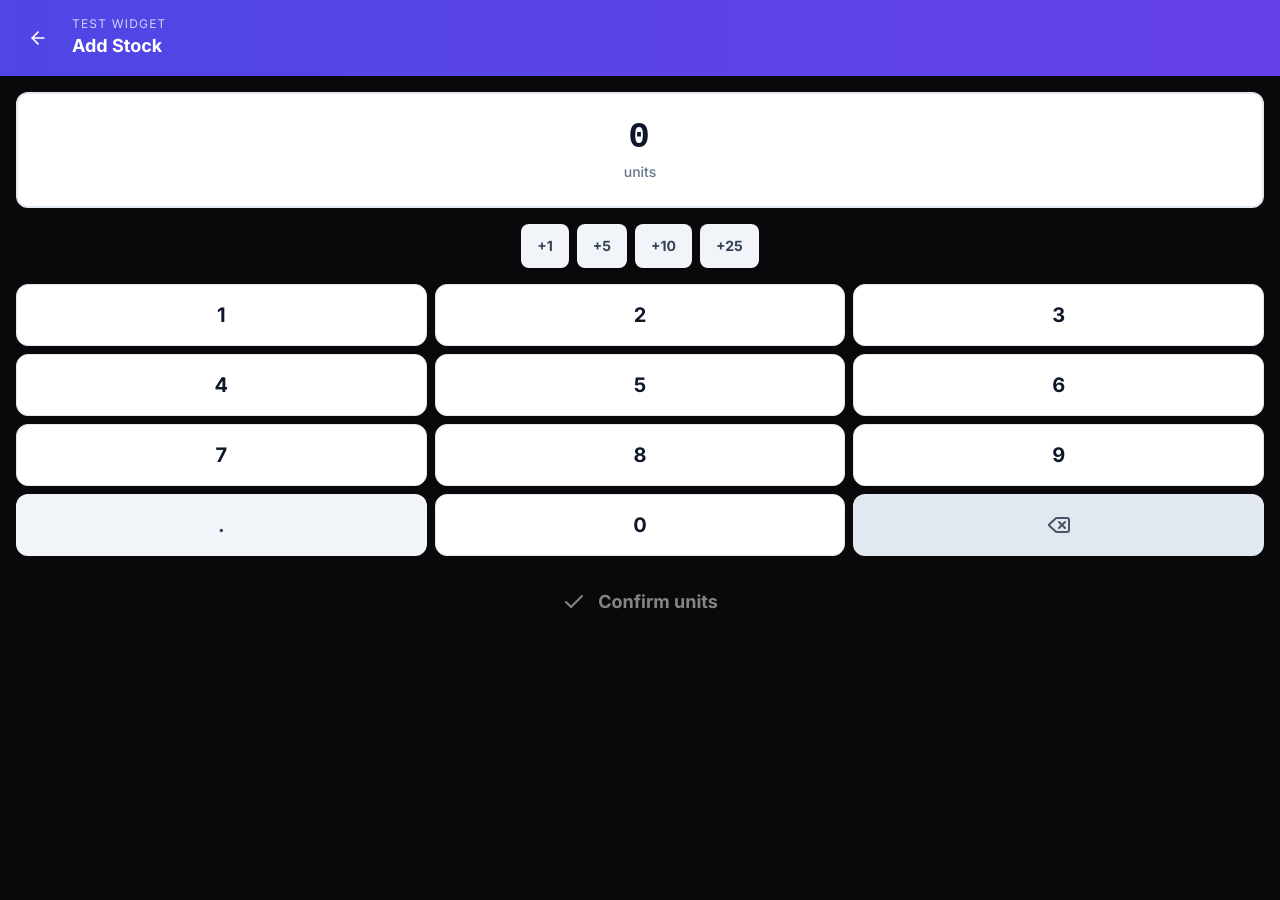
it: QuantityInput › updates display when number keys pressed
Click the button with test id "key-5". click: (640, 385)
box: [435,354,845,416]
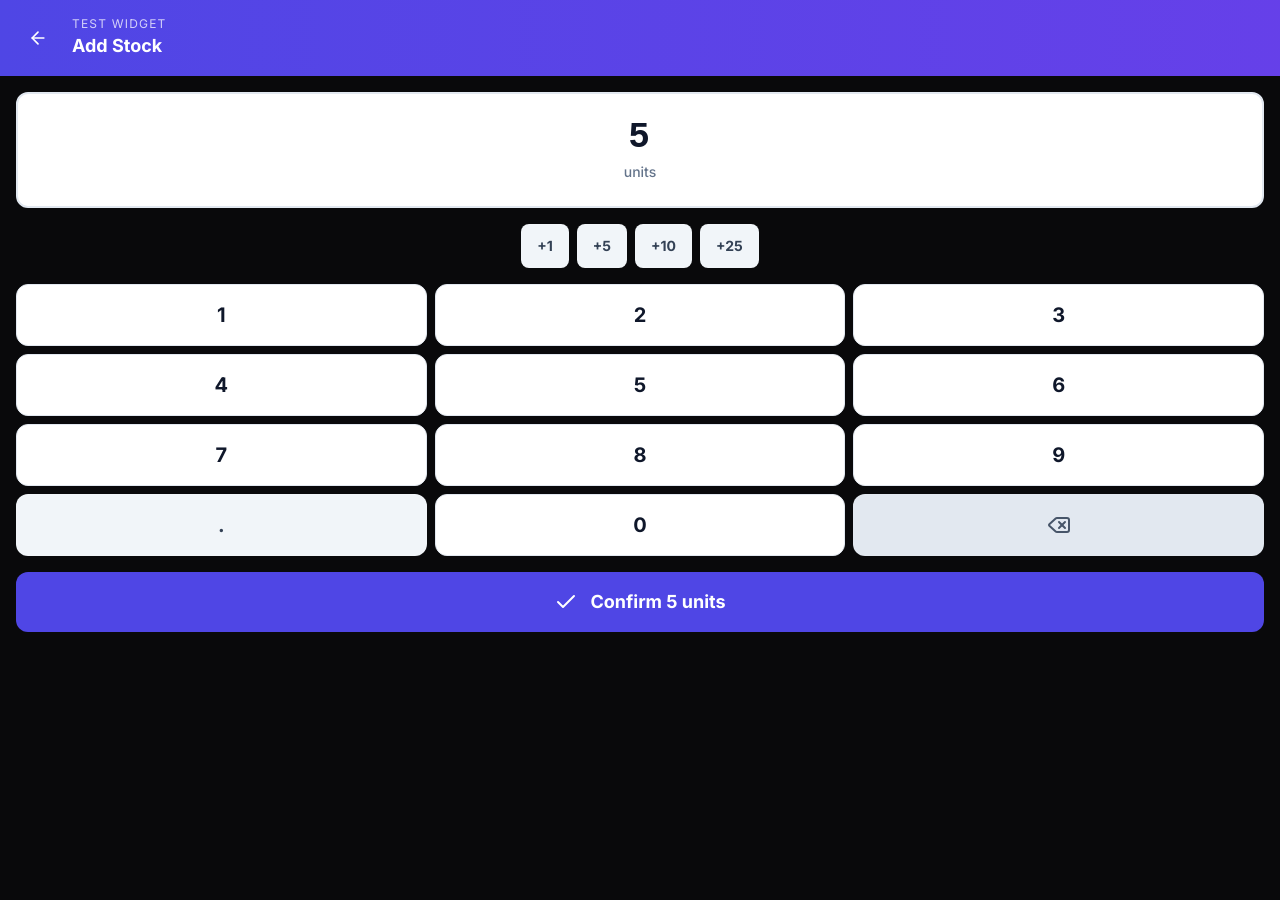
Expected: the text with test id "display-value" reads "5", [628,117,652,158]
Click the button with test id "key-3". click: (1059, 315)
box: [853,284,1264,346]
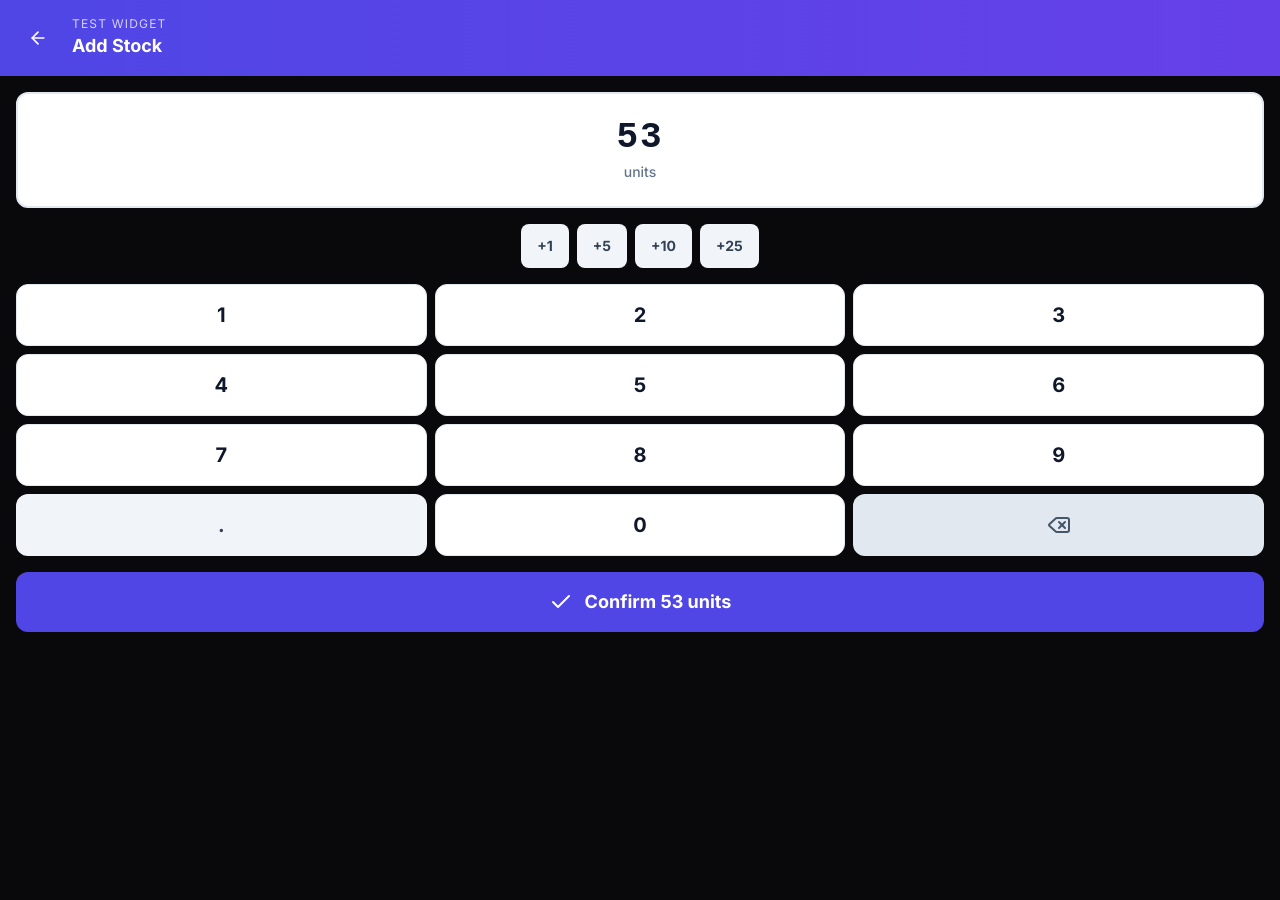
Expected: the text with test id "display-value" reads "53", [617,117,663,158]
